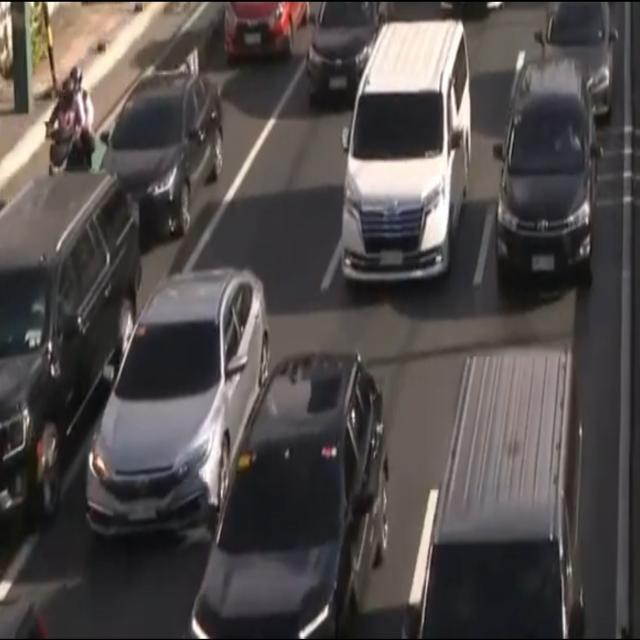Motorcycle: (46, 68, 97, 172)
SUV: (192, 357, 389, 640), (0, 172, 137, 504), (493, 64, 596, 290)
Sedan: (88, 271, 270, 538), (100, 74, 225, 246), (306, 0, 392, 105), (544, 0, 614, 111)
Van: (420, 340, 587, 640), (338, 22, 472, 289)
